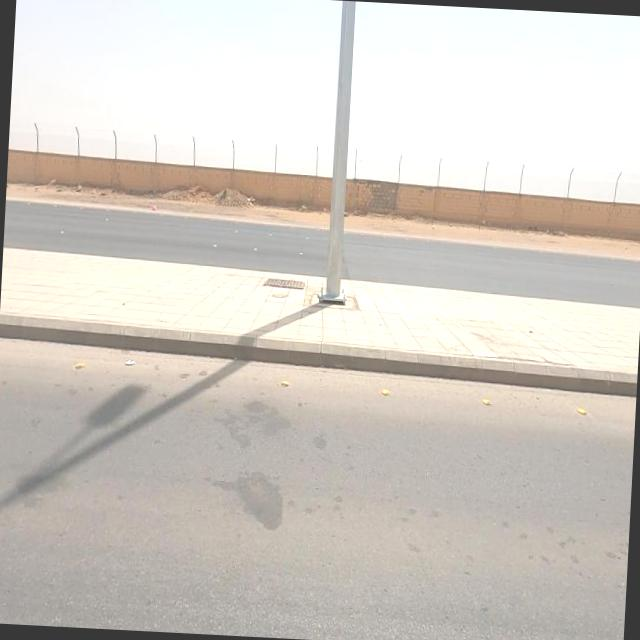debris: (110, 340, 152, 387)
